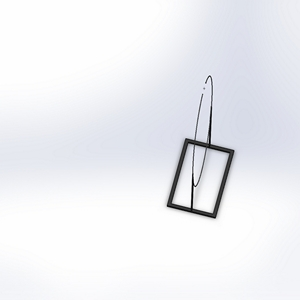circle: (167, 72, 236, 219)
